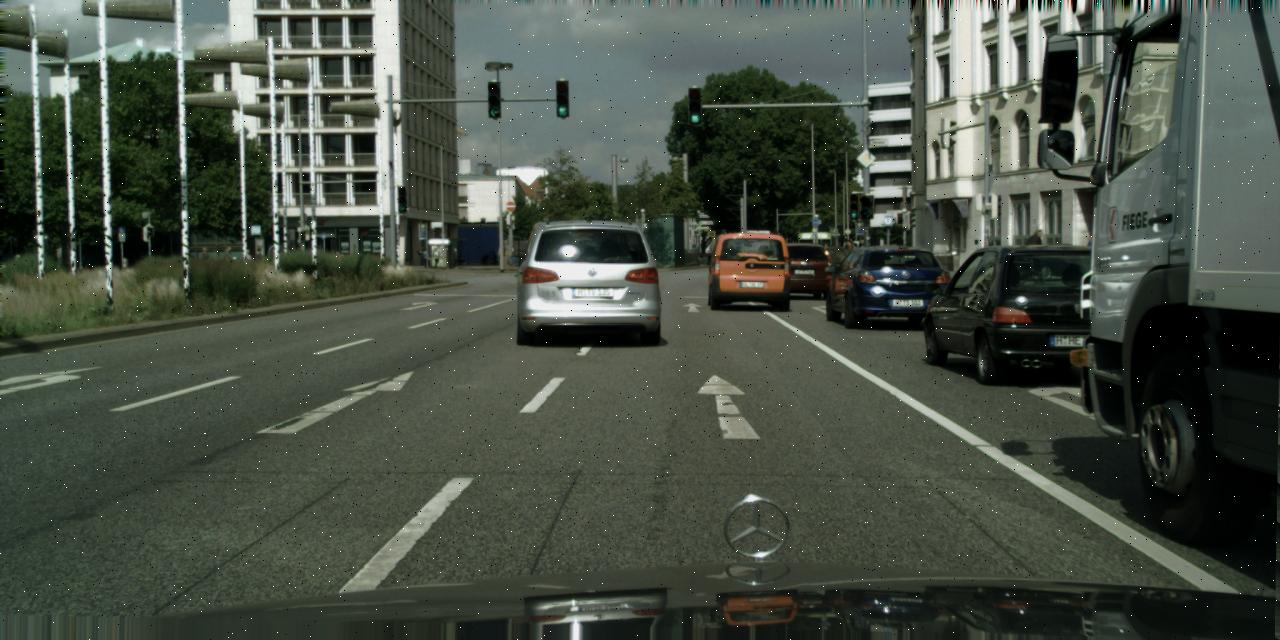ped: (1026, 228, 1045, 276), (1084, 236, 1100, 278), (844, 239, 854, 266), (851, 242, 861, 267), (224, 246, 233, 268), (821, 242, 830, 262), (202, 247, 210, 267), (432, 246, 439, 268), (244, 248, 251, 268), (451, 247, 458, 267), (417, 246, 424, 265)
